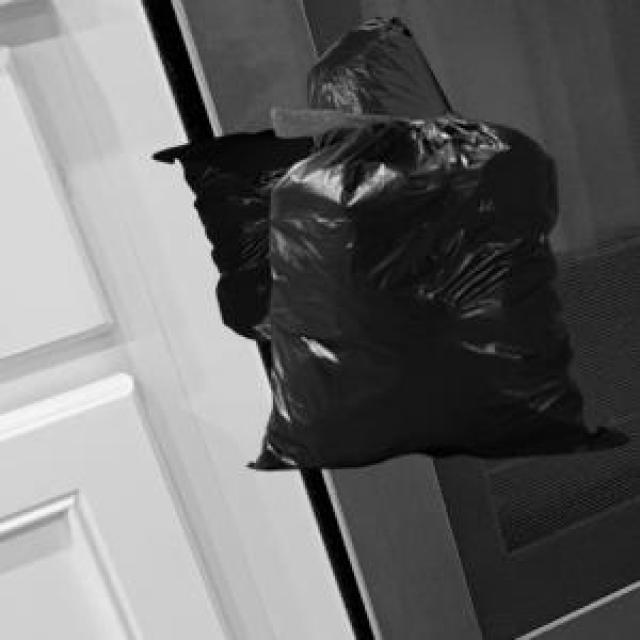miscellaneous trash: (243, 105, 625, 465), (245, 13, 448, 190), (149, 126, 309, 337)
